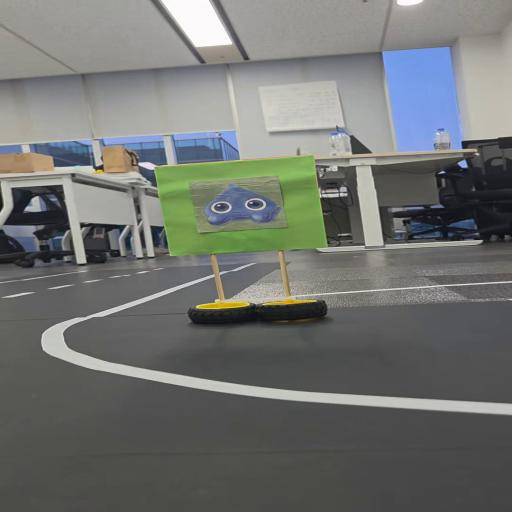Sign_B: (149, 155, 347, 338)
